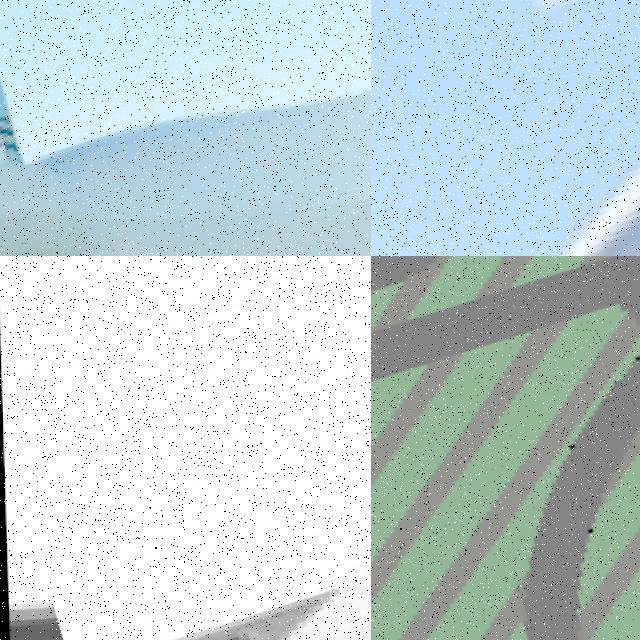drone: (0, 256, 371, 640), (371, 256, 640, 640), (0, 0, 371, 256), (371, 0, 640, 256)
